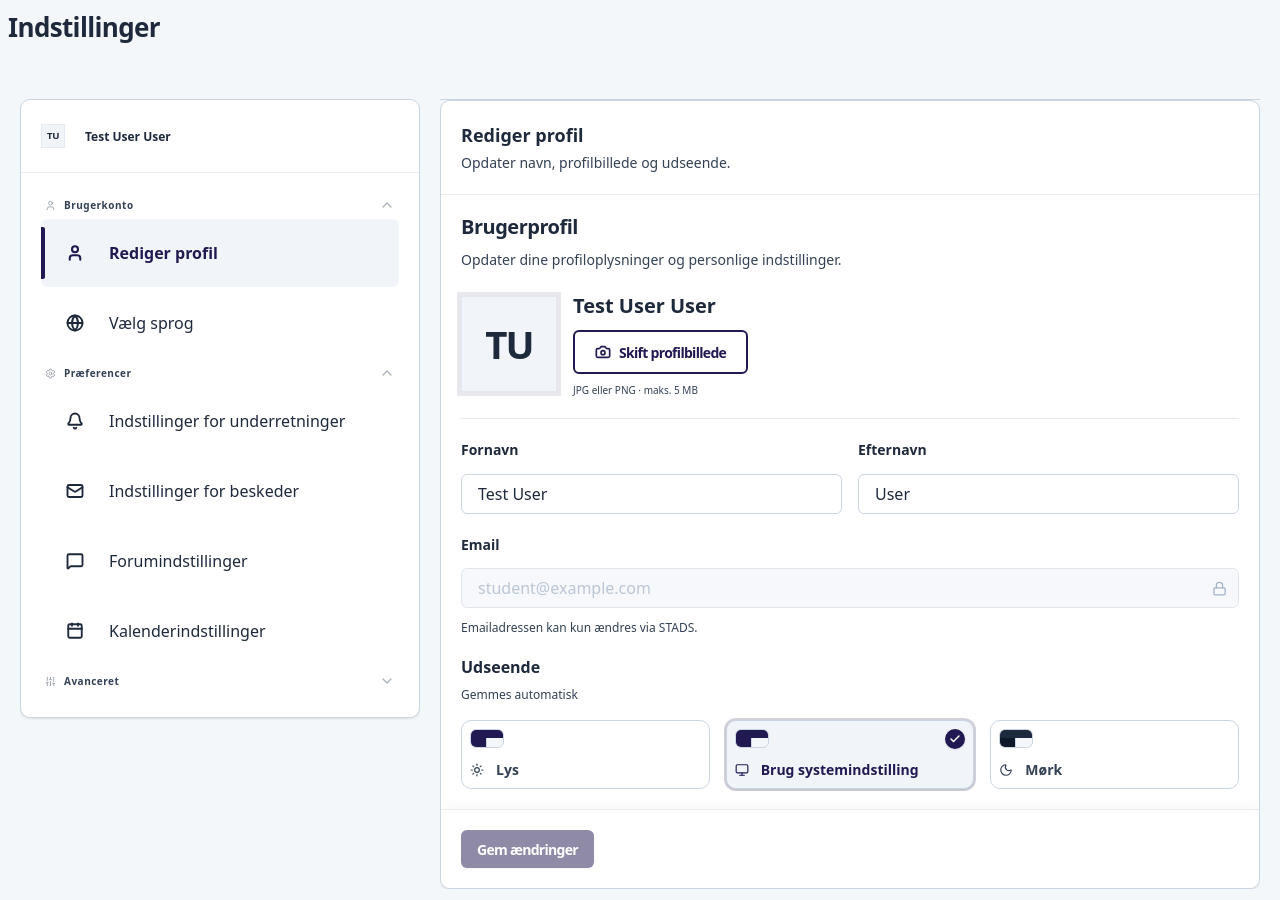
Test case: Settings Page › switches categories and toggles collapse
This screenshot has width=1280, height=900.
Click the button "Avanceret". click: (92, 681)
box: [41,669,399,693]
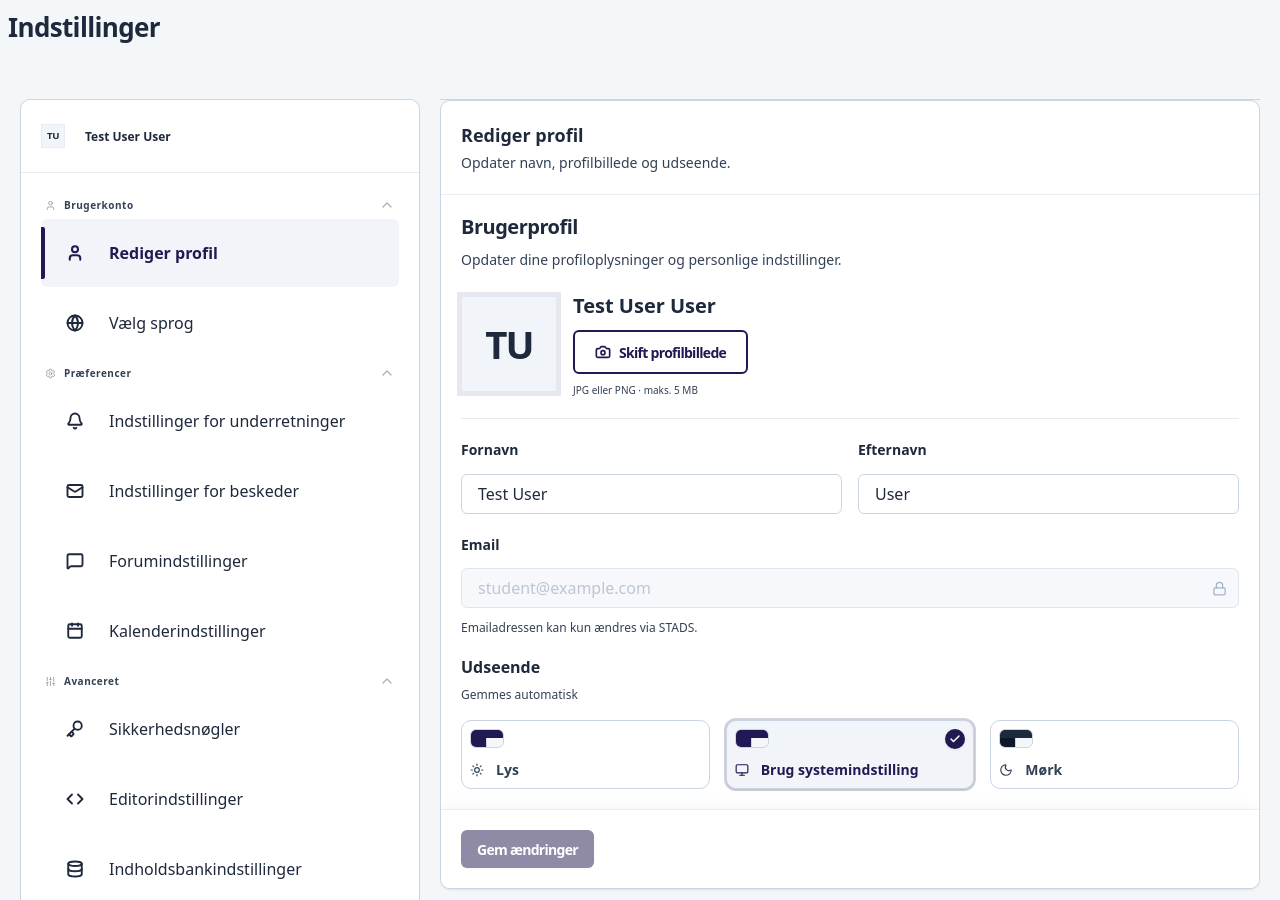
expect the text "Sikkerhedsnøgler" is shown: met, box [109,718,240,740]
Click the button "Avanceret". click: (92, 681)
box: [41,669,399,693]
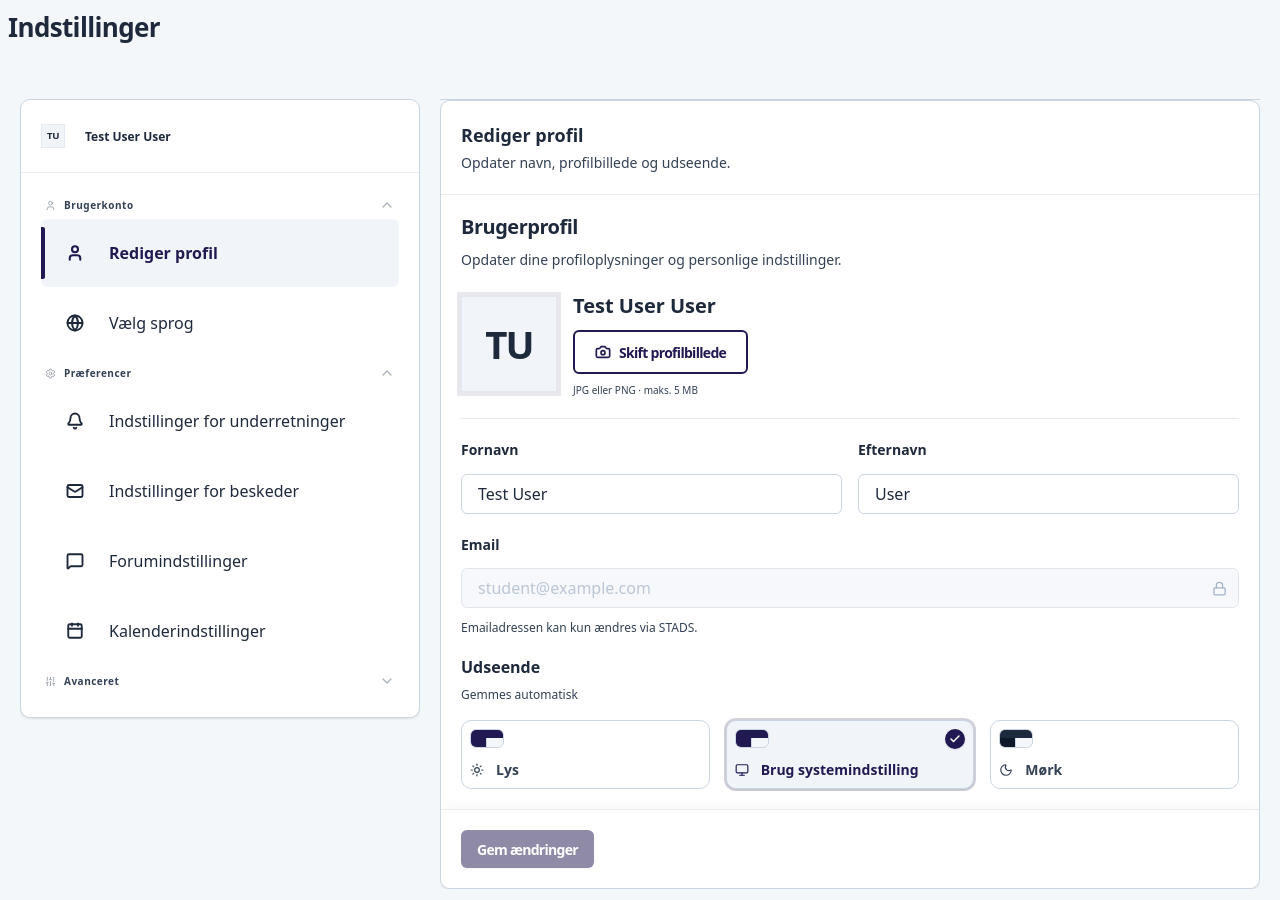
expect the button "Sikkerhedsnøgler" is gone: met
